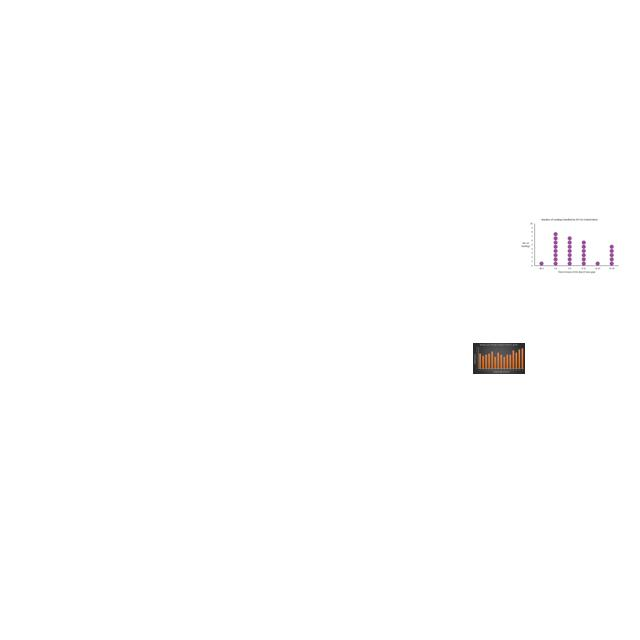Graph: (518, 216, 621, 276), (473, 343, 525, 374)
